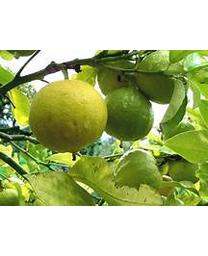lemon: (29, 79, 107, 153), (104, 85, 155, 142), (137, 50, 189, 104)
